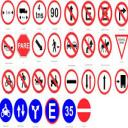NoEstacionar: (80, 0, 97, 26)
NoUltrapassar: (63, 30, 80, 59)
Pare: (16, 32, 31, 61)
speed_limit_90: (46, 0, 62, 25)
